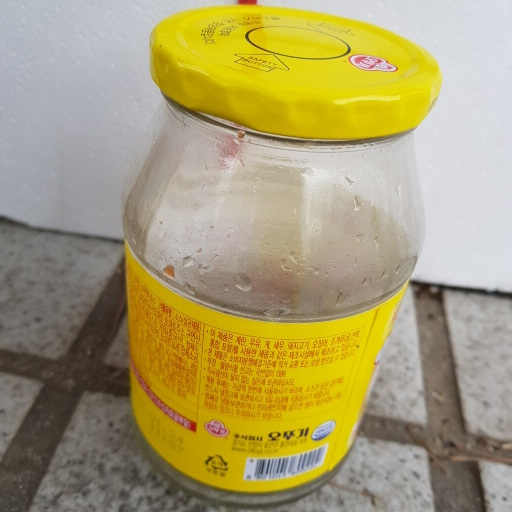Glass_5: (114, 6, 442, 500)
